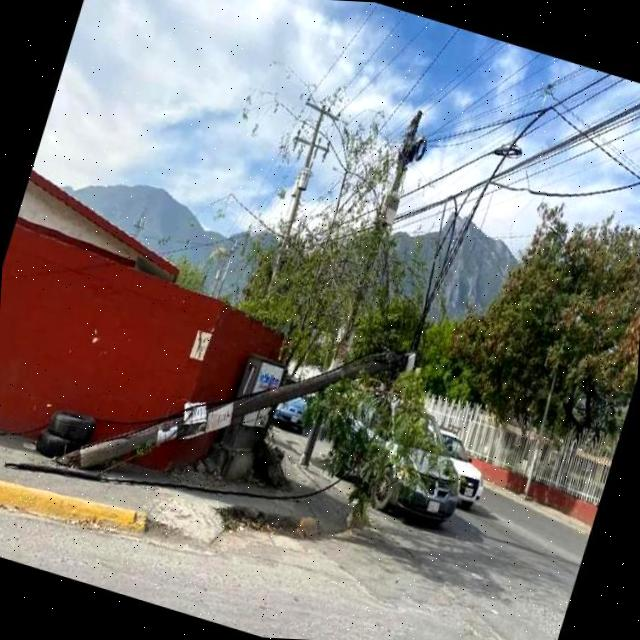Broken Pole: (52, 330, 425, 467)
